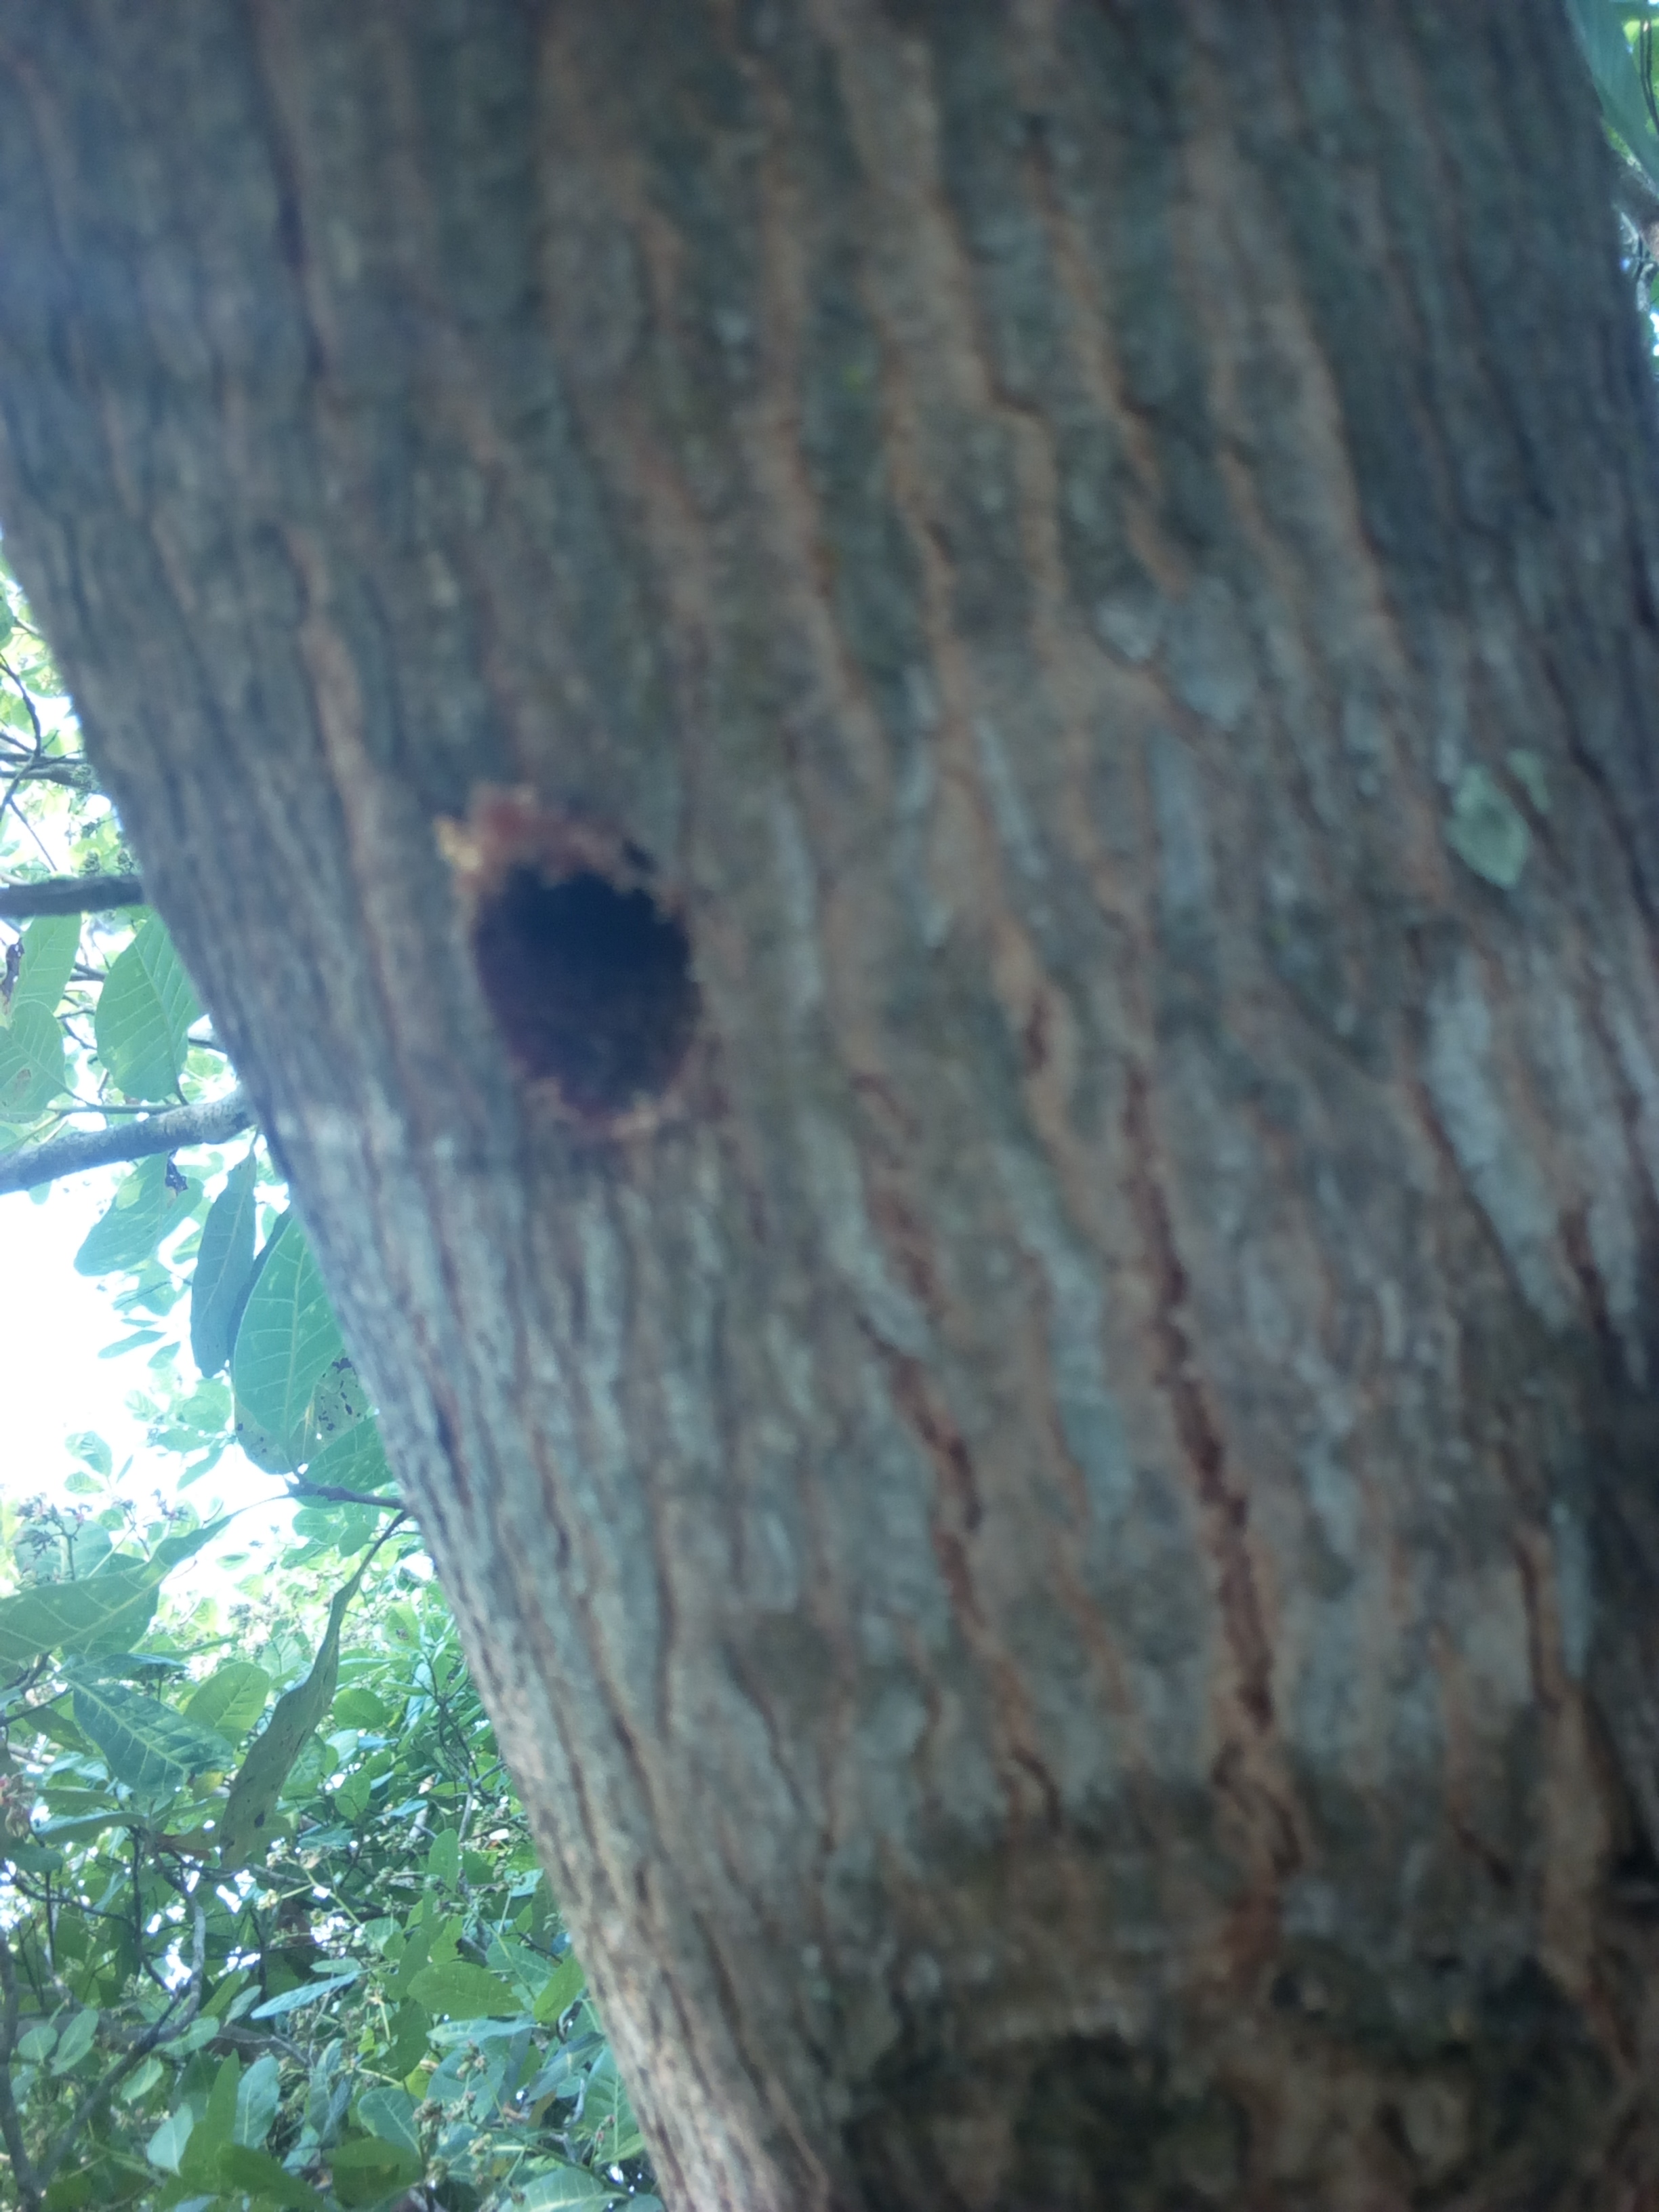Apate terebrans: (324, 808, 765, 1174)
